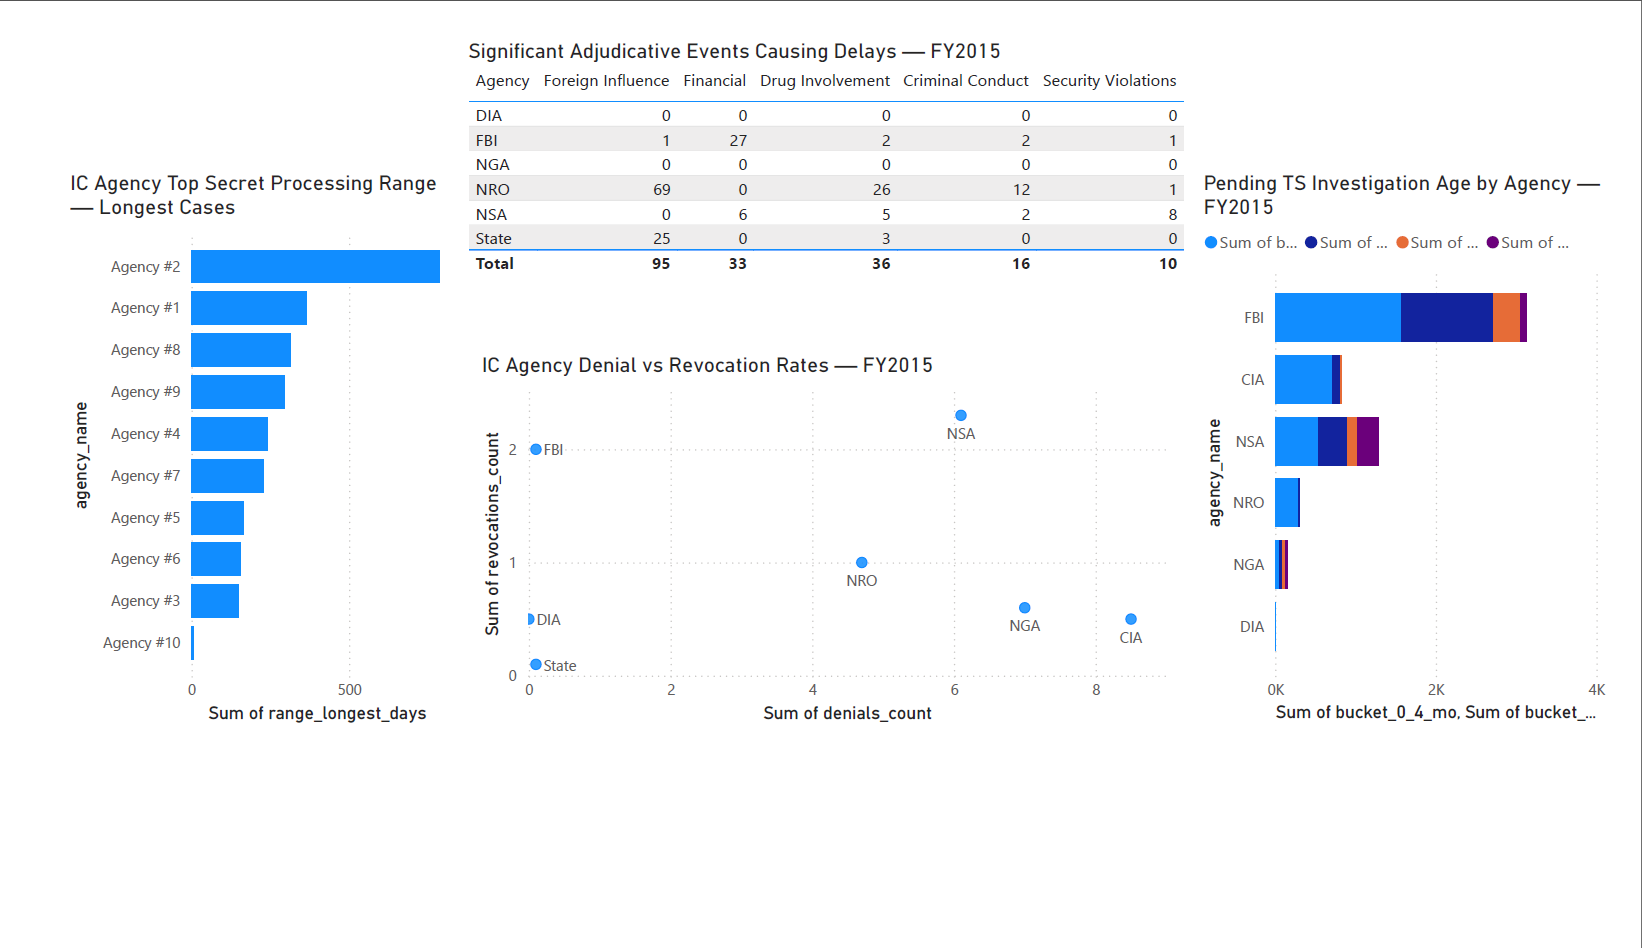

Layout of this report page (visuals, bound fields, positions):
{"tool":"powerbi","page":{"name":"IC Agency Performance","canvas":[1280,720],"ordinal":2},"visuals":[{"type":"clusteredBarChart","title":"IC Agency Top Secret Processing Range — Longest Cases","fields":{"Category":["fact_agency_timeliness.agency_name"],"Y":["Sum(fact_agency_timeliness.range_longest_days)"]},"box":[27.9,112.8,321.8,452.2],"z":0},{"type":"scatterChart","title":"IC Agency Denial vs Revocation Rates — FY2015","fields":{"Category":["fact_denials_revocations.agency_name"],"Y":["Sum(fact_denials_revocations.revocations_count)"],"X":["Sum(fact_denials_revocations.denials_count)"]},"box":[361.1,259.7,568.1,305.3],"z":1},{"type":"barChart","title":"Pending TS Investigation Age by Agency — FY2015","fields":{"Category":["fact_investigation_age.agency_name"],"Y":["Sum(fact_investigation_age.bucket_0_4_mo)","Sum(fact_investigation_age.bucket_4_8_mo)","Sum(fact_investigation_age.bucket_8_12_mo)","Sum(fact_investigation_age.bucket_over_12_mo)"]},"box":[944.7,112.8,335.3,452.2],"z":2},{"type":"tableEx","title":"Significant Adjudicative Events Causing Delays — FY2015","fields":{"Values":["fact_adjudicative_delays.agency_name","Sum(fact_adjudicative_delays.foreign_influence)","Sum(fact_adjudicative_delays.financial)","Sum(fact_adjudicative_delays.drug_involvement)","Sum(fact_adjudicative_delays.criminal_conduct)","Sum(fact_adjudicative_delays.security_violations)"]},"box":[349.7,6.2,595,212.1],"z":3}]}

Visuals, with their boxes in screenshot pixels (x1, y1, x2, y2), scaled from the page's 1280x720 canvas onto the 1642x948 screenshot:
"IC Agency Top Secret Processing Range — Longest Cases" clusteredBarChart: 36,149,449,744
"IC Agency Denial vs Revocation Rates — FY2015" scatterChart: 463,342,1192,744
"Pending TS Investigation Age by Agency — FY2015" barChart: 1212,149,1641,744
"Significant Adjudicative Events Causing Delays — FY2015" tableEx: 449,8,1212,287
